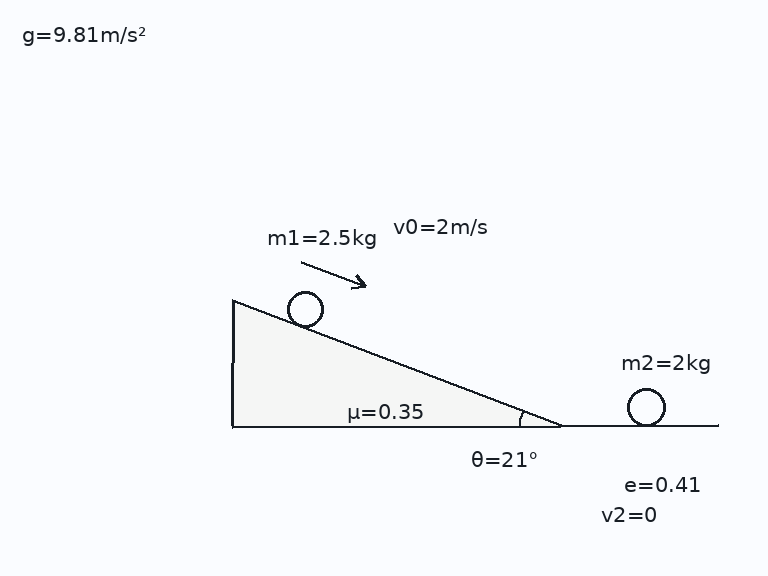ball: (625, 386, 667, 428), (285, 289, 325, 329)
ramp: (229, 298, 562, 428)
